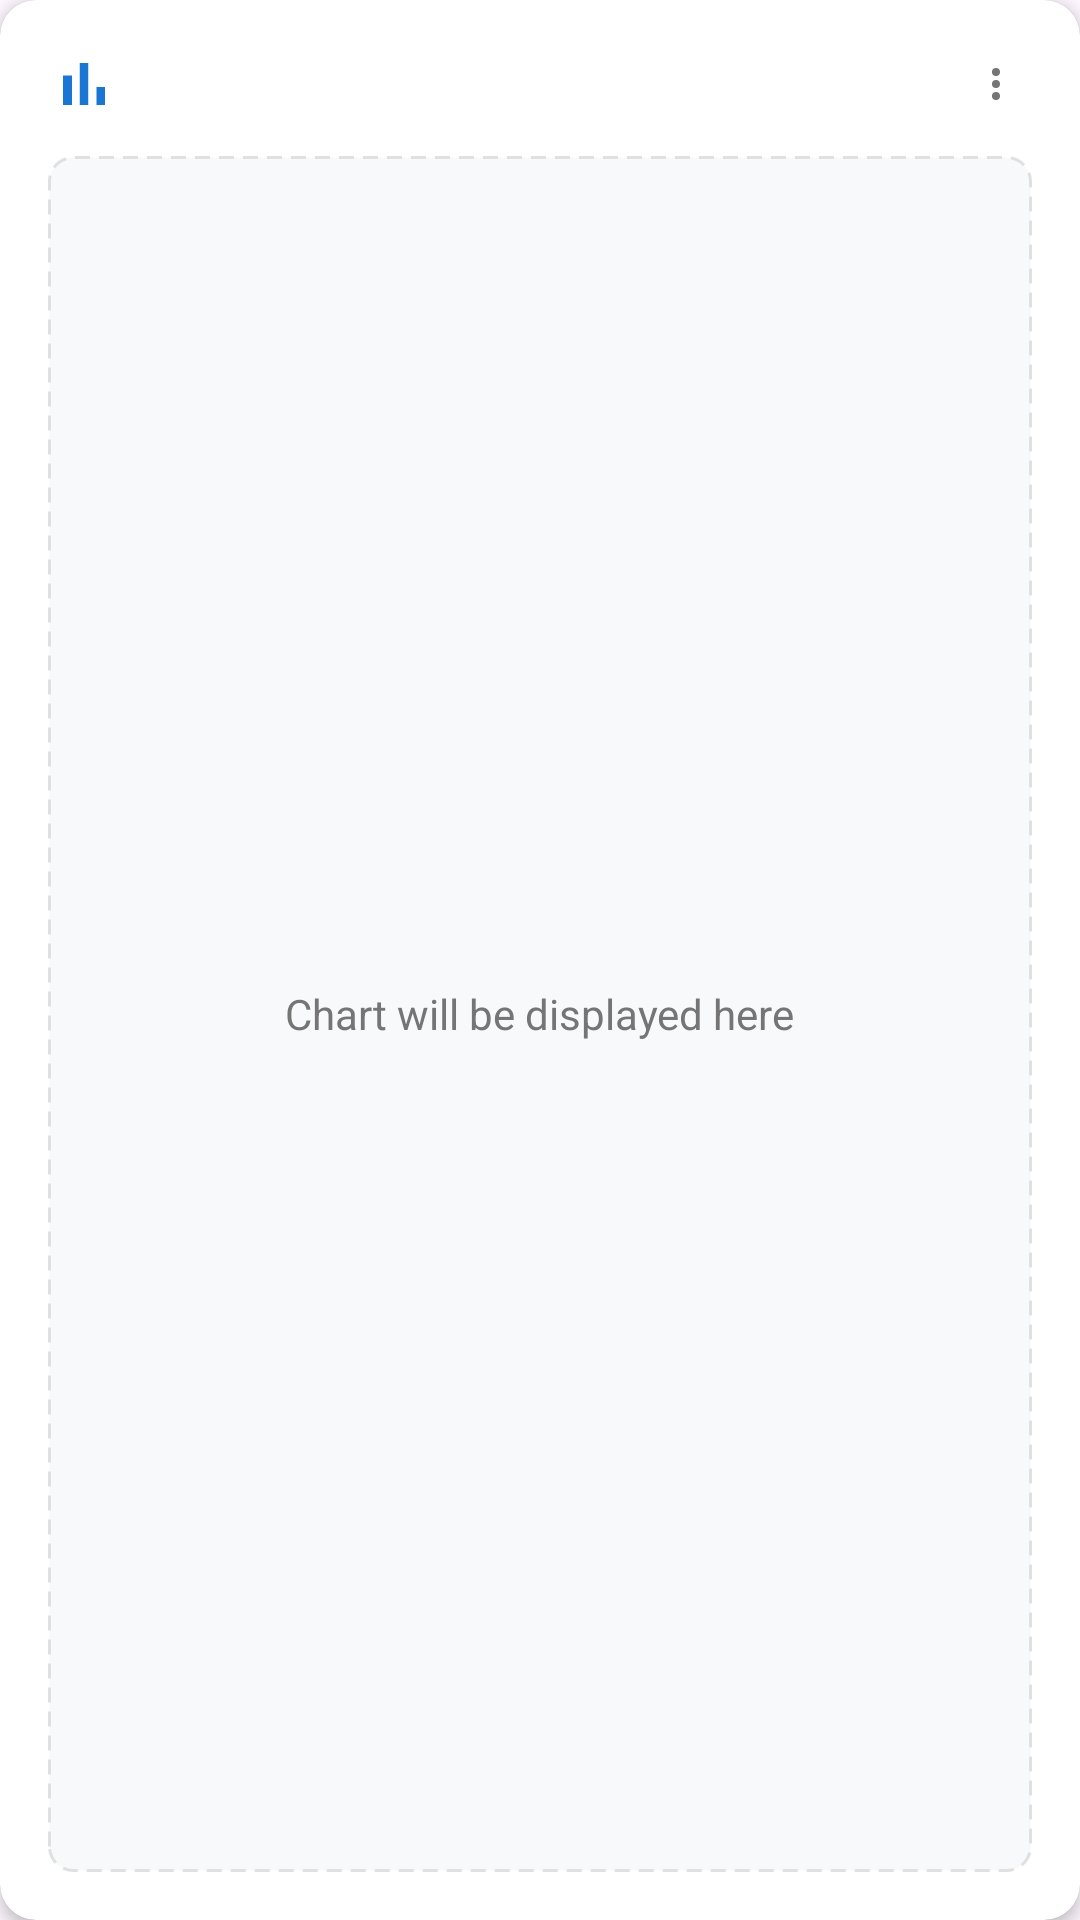

Locate icon controls on the screen. Image size 1080px×1920px, boxes as box=[x1, y1, x2, y2].
more vert: box=[992, 68, 1000, 100]
